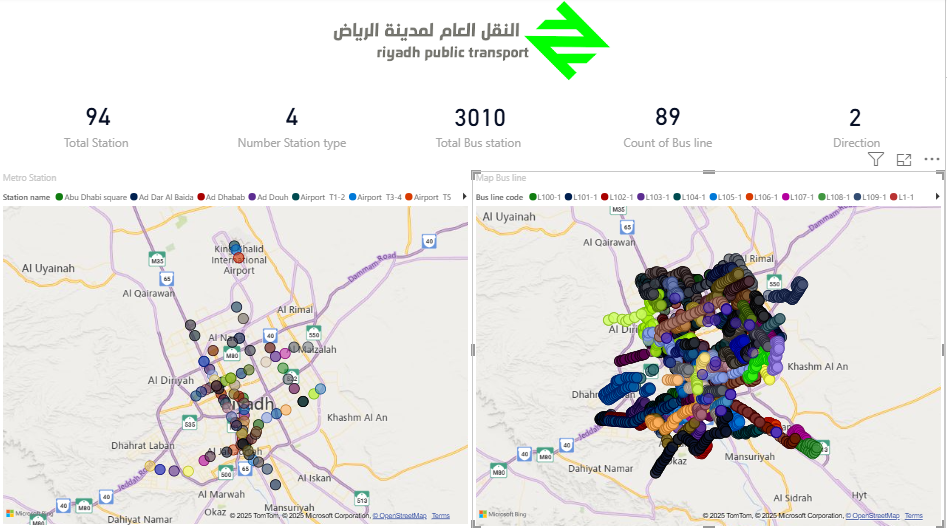

What the dashboard file says about the page in this screenshot:
{"tool":"powerbi","page":{"name":"Overview","canvas":[1280,720],"ordinal":0},"visuals":[{"type":"card","fields":{"Values":["CountNonNull(metro-stations.Station name)"]},"box":[2.7,105.5,262.5,129.9],"z":0},{"type":"card","fields":{"Values":["CountNonNull(bus-stops.Bus station name)"]},"box":[527.7,105.5,246.3,129.9],"z":1000},{"type":"card","fields":{"Values":["Count(metro-stations.Station type)"]},"box":[265.2,105.5,262.5,129.9],"z":2000},{"type":"card","fields":{"Values":["Count(bus-roads-by-direction.Direction)"]},"box":[1036.4,105.5,243.6,129.9],"z":3000},{"type":"map","title":"Metro Station","fields":{"Y":["metro-stations.Latitude"],"X":["metro-stations.Longitude"],"Series":["metro-stations.Station name"]},"box":[0,235.4,640,483],"z":4000},{"type":"map","title":"Map Bus line ","fields":{"X":["bus-stops.Longitude"],"Y":["bus-stops.Latitude"],"Series":["bus-stops.Bus line code"]},"box":[640,235.4,640,484.4],"z":5000},{"type":"card","fields":{"Values":["Count(bus-stops.Bus line)"]},"box":[774,105.5,262.5,129.9],"z":5001},{"type":"image","box":[0,0,1280,117.7],"z":5002}]}

Visuals, with their boxes on the page's 1280x720 design canvas (x1, y1, x2, y2). These are canvas units, not pixel positions in the 947x528 screenshot, which may show the page scaled, cropped or inside an application window:
card - CountNonNull(metro-stations.Station name): bbox=[3, 106, 265, 235]
card - CountNonNull(bus-stops.Bus station name): bbox=[528, 106, 774, 235]
card - Count(metro-stations.Station type): bbox=[265, 106, 528, 235]
card - Count(bus-roads-by-direction.Direction): bbox=[1036, 106, 1280, 235]
"Metro Station" map: bbox=[0, 235, 640, 718]
"Map Bus line " map: bbox=[640, 235, 1280, 720]
card - Count(bus-stops.Bus line): bbox=[774, 106, 1036, 235]
image: bbox=[0, 0, 1280, 118]
